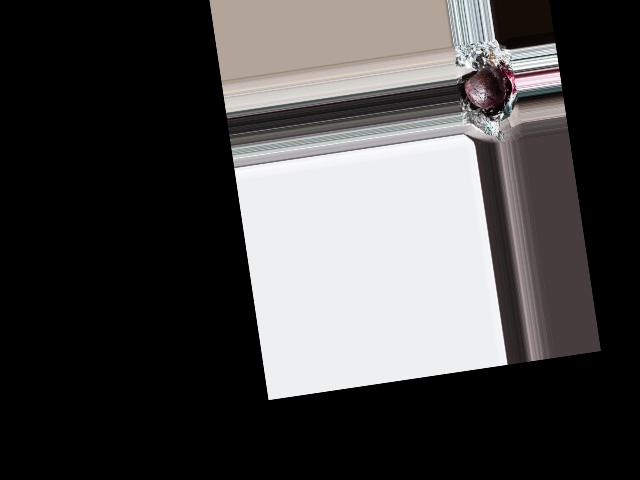beet: (462, 64, 507, 111)
